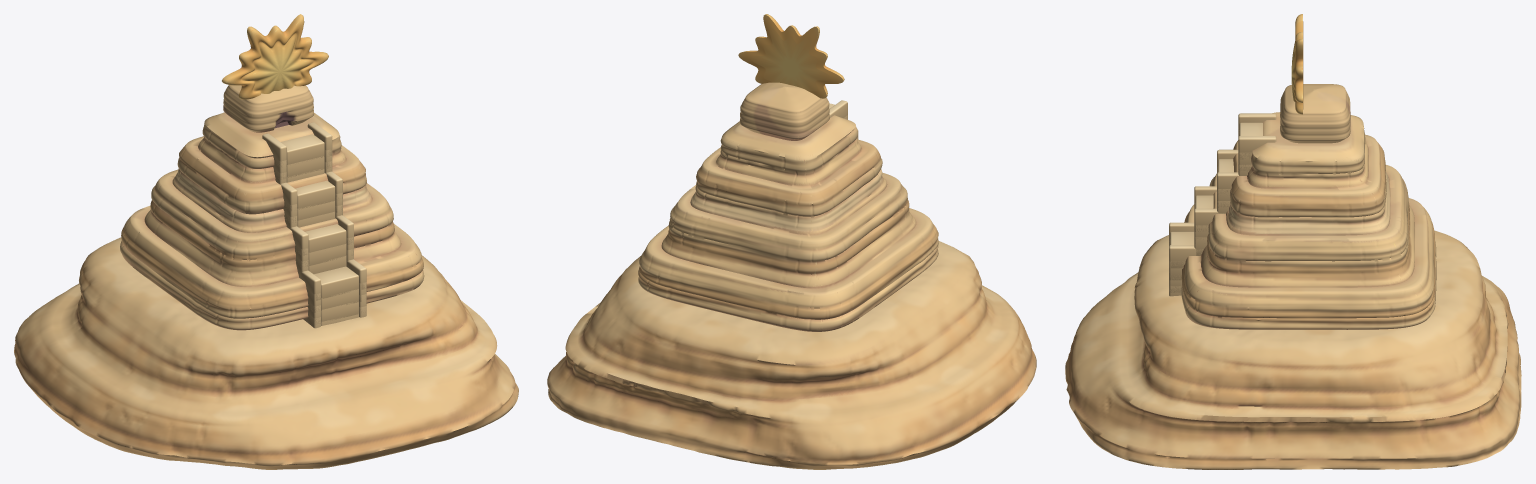
File: SD_B05_Temple_Far.fbx
3 views of the same model, side by side, from view 1: azimuth 30°, elevation 25°; view 2: azimuth 150°, elevation 25°; view 3: azimuth 270°, elevation 25° (orthographic). The views are drawn at different scales.
Visible parts, largest first — view 1: Hill_LOD0, Temple_LOD0, Emblem_LOD0; view 2: Hill_LOD0, Temple_LOD0, Emblem_LOD0; view 3: Hill_LOD0, Temple_LOD0, Emblem_LOD0.
Part boxes in pixels (x1,y1,x2,y2): Hill_LOD0: (14, 237, 518, 469); Temple_LOD0: (120, 85, 424, 330); Emblem_LOD0: (222, 14, 328, 99); Hill_LOD0: (547, 241, 1036, 469); Temple_LOD0: (638, 82, 938, 331); Emblem_LOD0: (738, 14, 844, 98); Hill_LOD0: (1065, 230, 1521, 469); Temple_LOD0: (1169, 84, 1436, 329); Emblem_LOD0: (1291, 14, 1303, 114).
Size of what is drawn, in the model's own units: 18 by 16 by 18.
